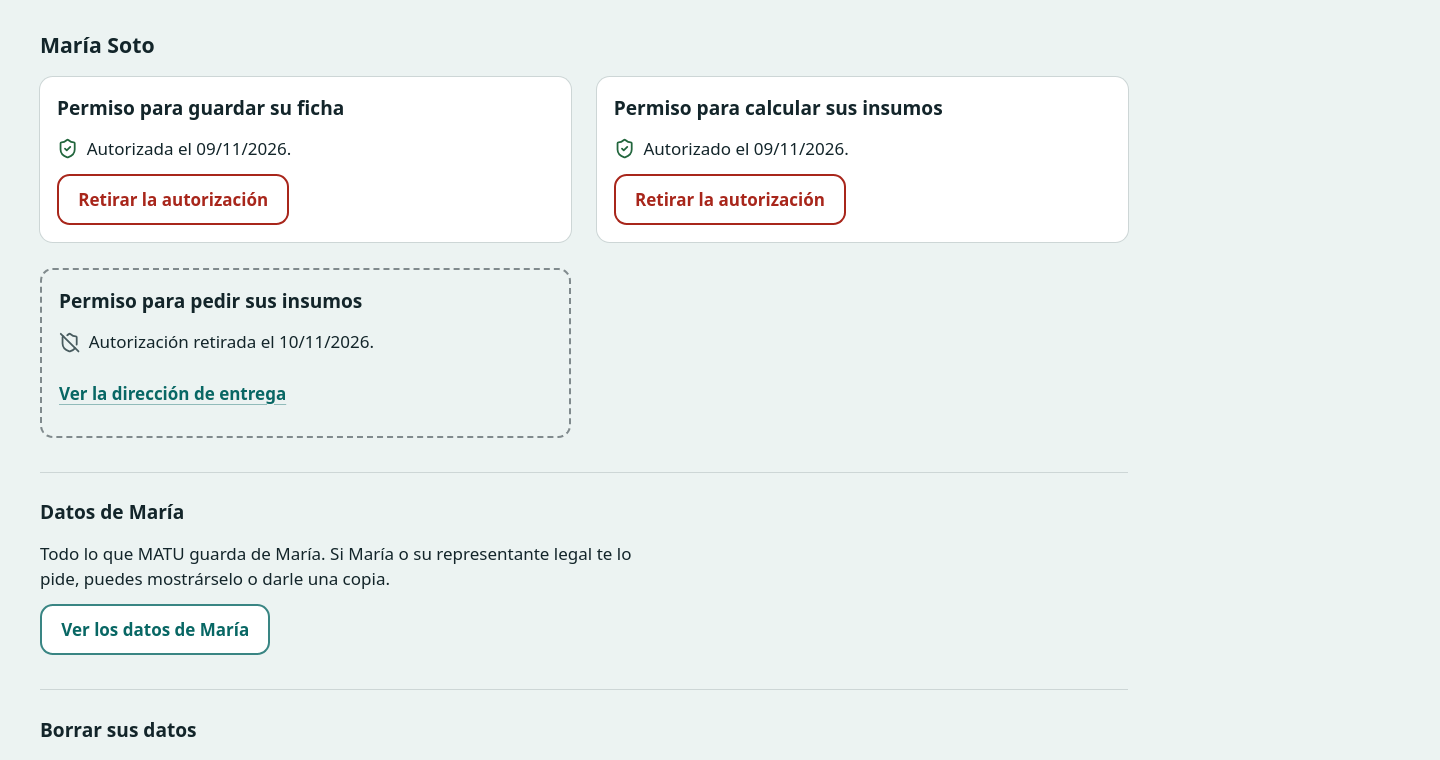
Test: MATU-94 (decisión 251, C8): la dirección con la capa 3 apagada › desde Grupo familiar, con los pedidos retirados: «Ver la dirección» la abre, se ve y se vacía, y vuelve con su nota
(page scrolled)
Step 1. Click the button with aria-label "Ver la dirección de entrega de María" → (173, 393), box x1=59 y1=368 x2=286 y2=419
(page scrolled)
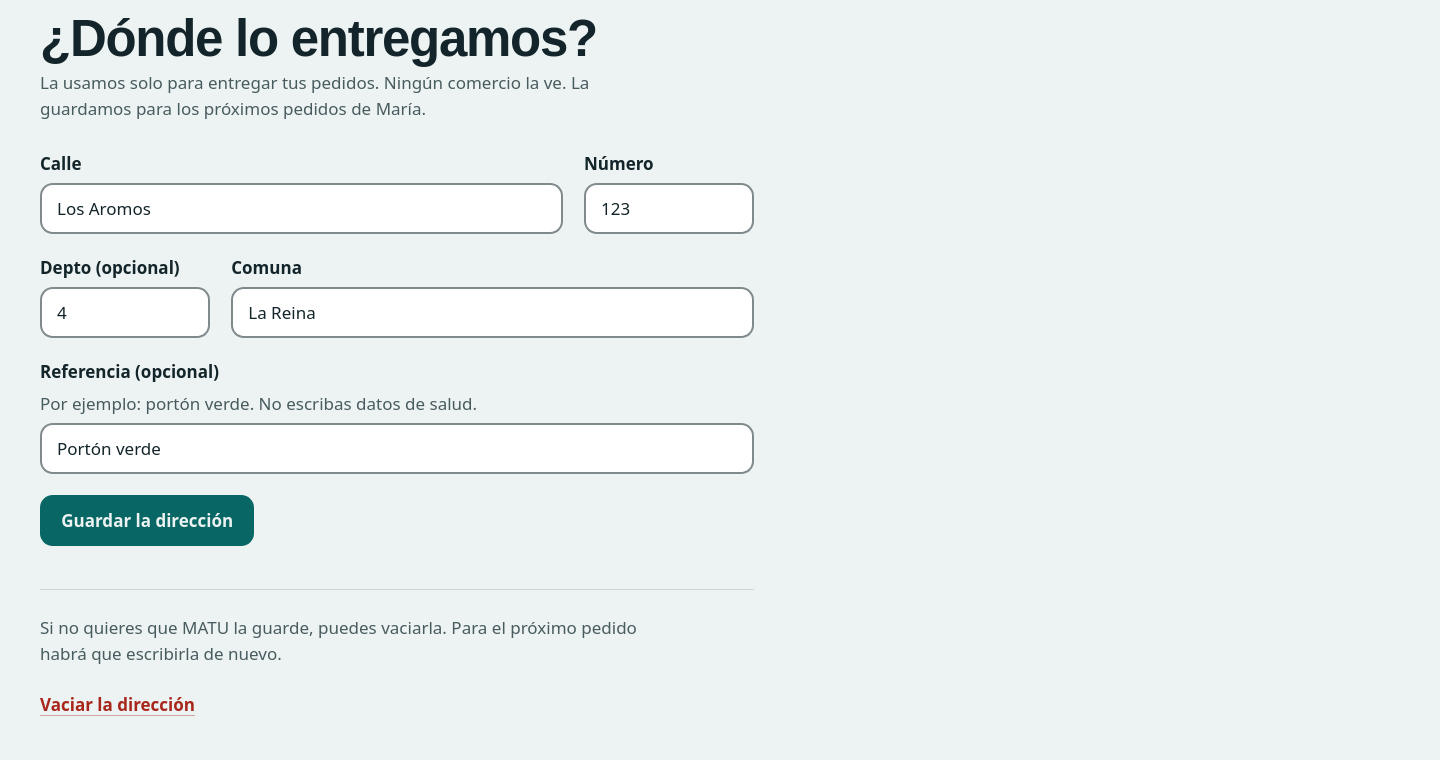
expect the field showing "Los Aromos" is shown: met, box x1=40 y1=183 x2=563 y2=234
expect the field showing "La Reina" is shown: met, box x1=231 y1=287 x2=754 y2=338
Step 2. Click the button with aria-label "Vaciar la dirección de entrega de María" → (117, 705), box x1=40 y1=679 x2=195 y2=730
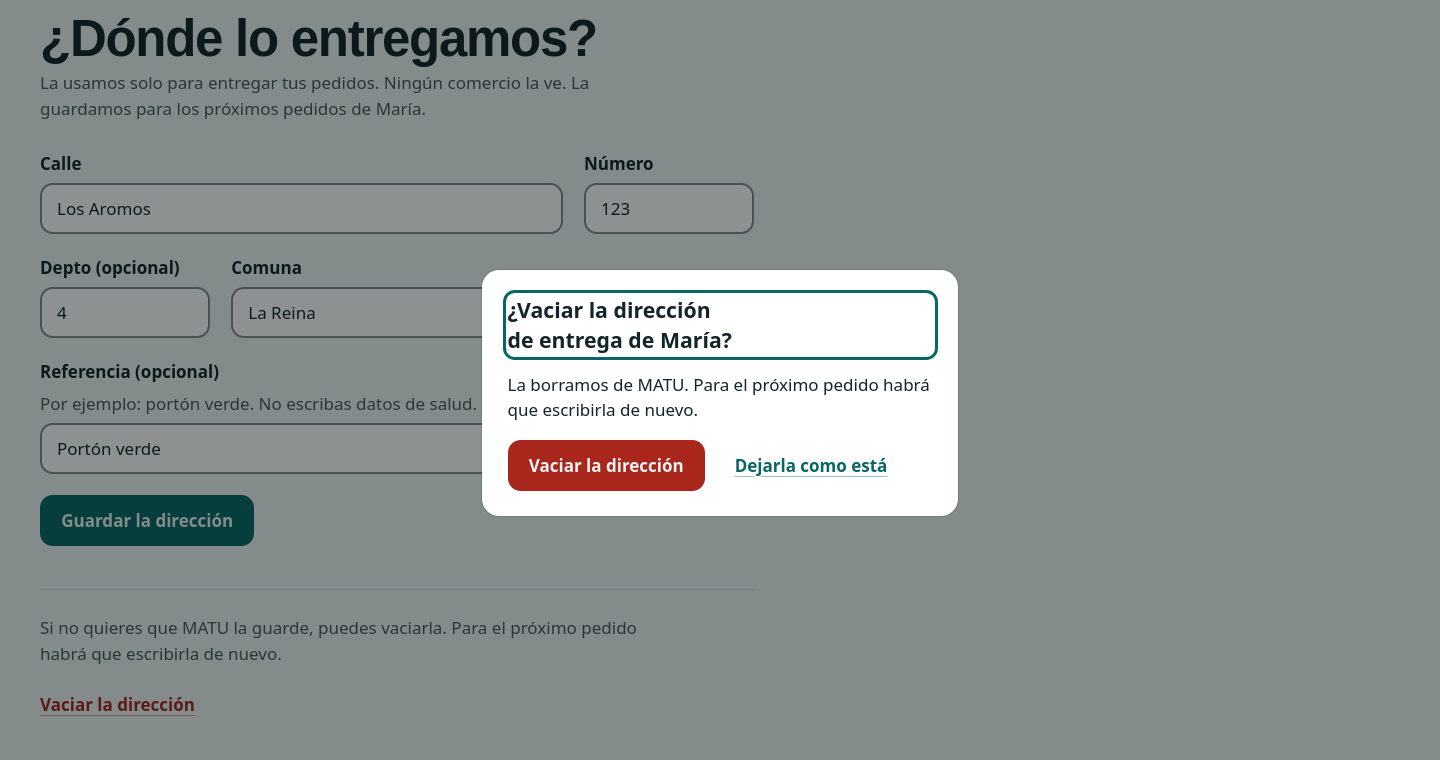
Step 3. Click the button "Vaciar la dirección" → (606, 465), box x1=508 y1=440 x2=705 y2=491
(page scrolled)
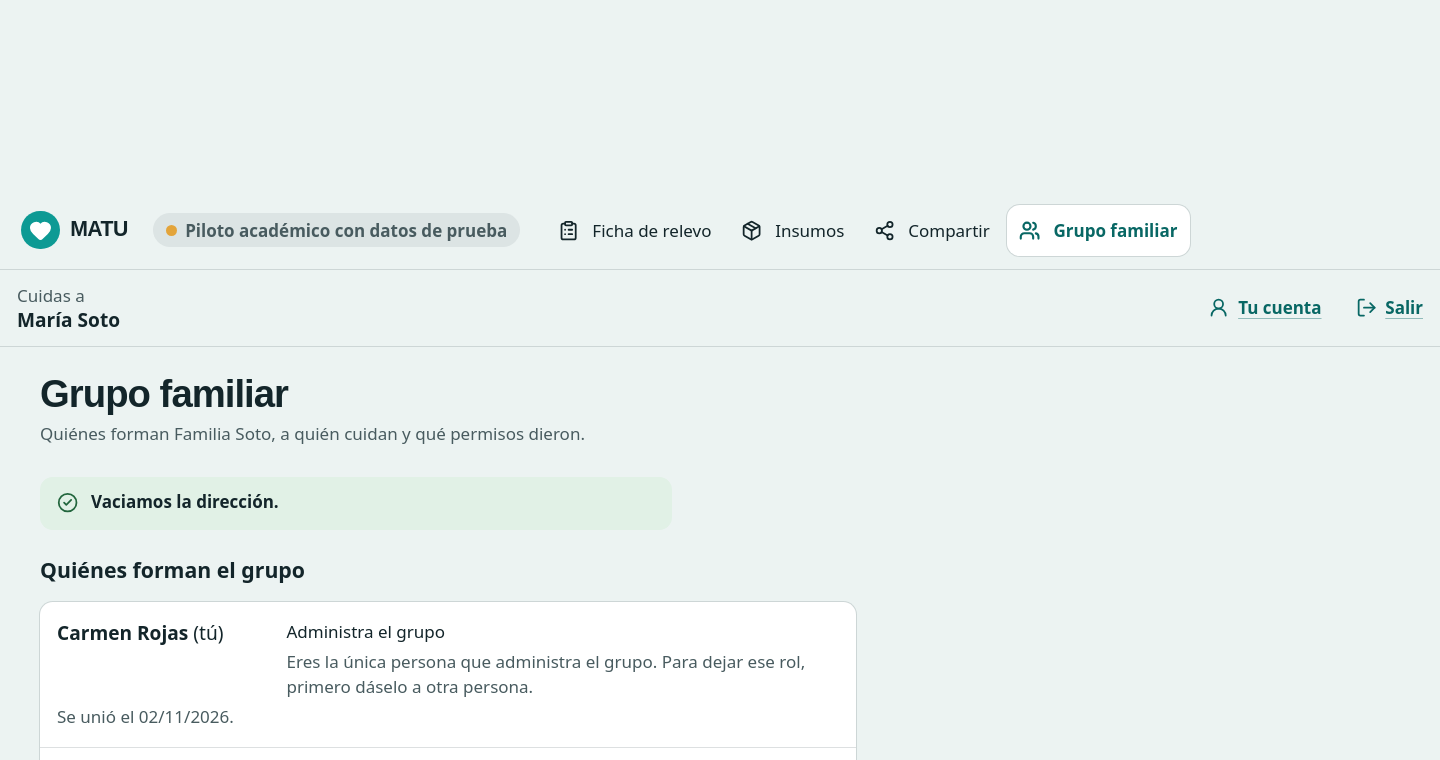
expect the text "Vaciamos la dirección." is shown: met, box x1=91 y1=489 x2=279 y2=515
